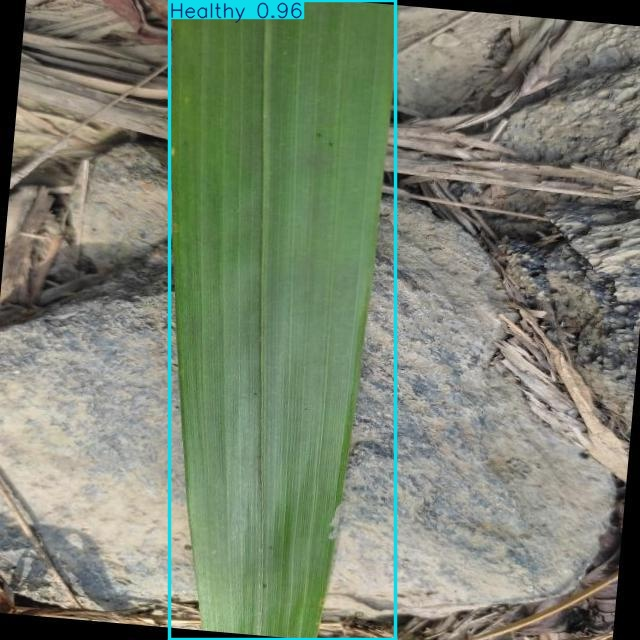Healthy: (169, 0, 396, 639)
